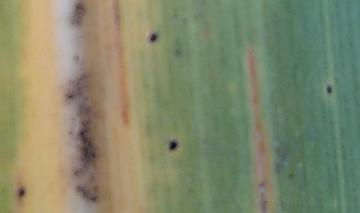tarspot: (67, 1, 89, 28), (167, 139, 179, 153), (171, 47, 184, 59), (324, 83, 335, 96), (146, 33, 159, 44), (17, 187, 26, 198)
